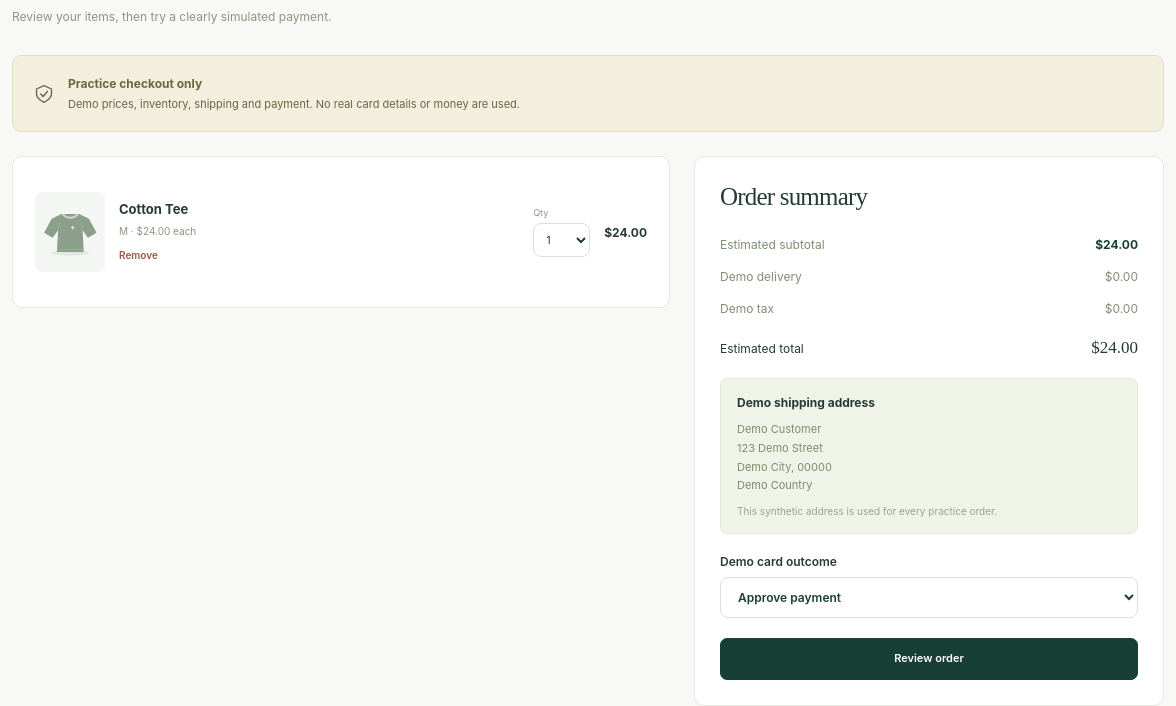
Test: simulated checkout › requires server review before explicit confirmation and shows a receipt
The image size is (1176, 706).
(page scrolled)
Check: the button "Confirm & simulate" is not shown
What coordinates should you click on to do the following:
click the button "Review order"
I would click on:
 (929, 659)
Its box is [720,638,1138,680].
(page scrolled)
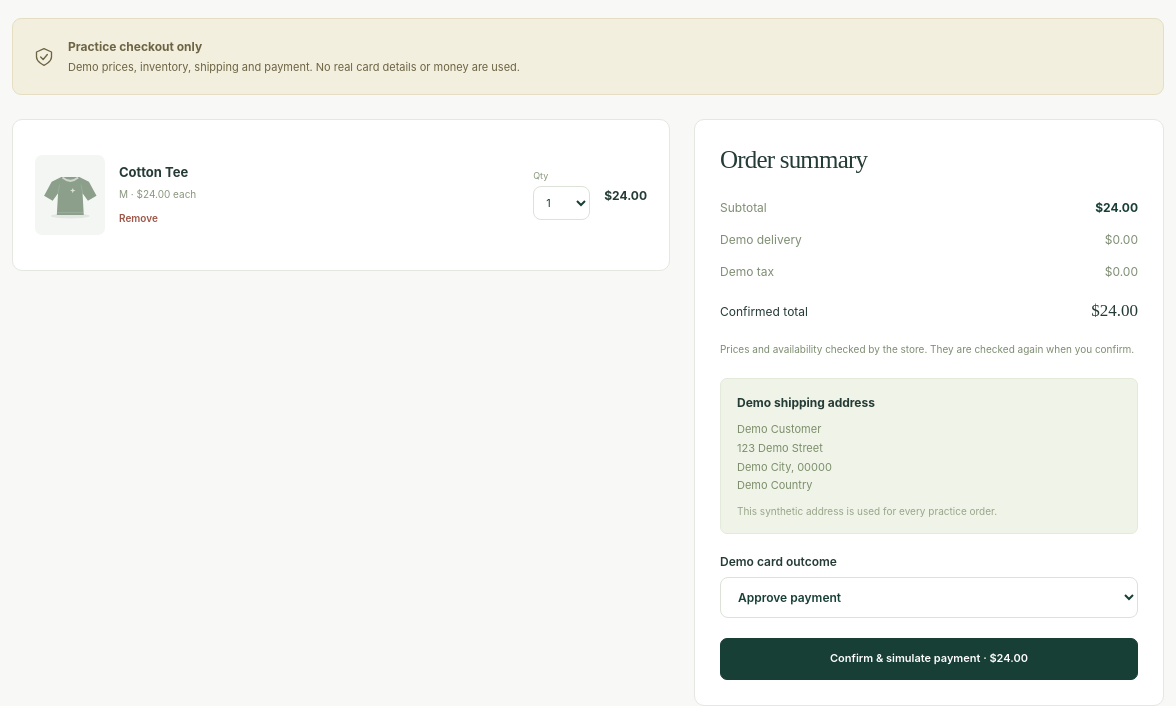
What coordinates should you click on to do the following:
click the button "Confirm & simulate payment · $24.00"
I would click on:
 (929, 659)
Its box is [720,638,1138,680].
(page scrolled)
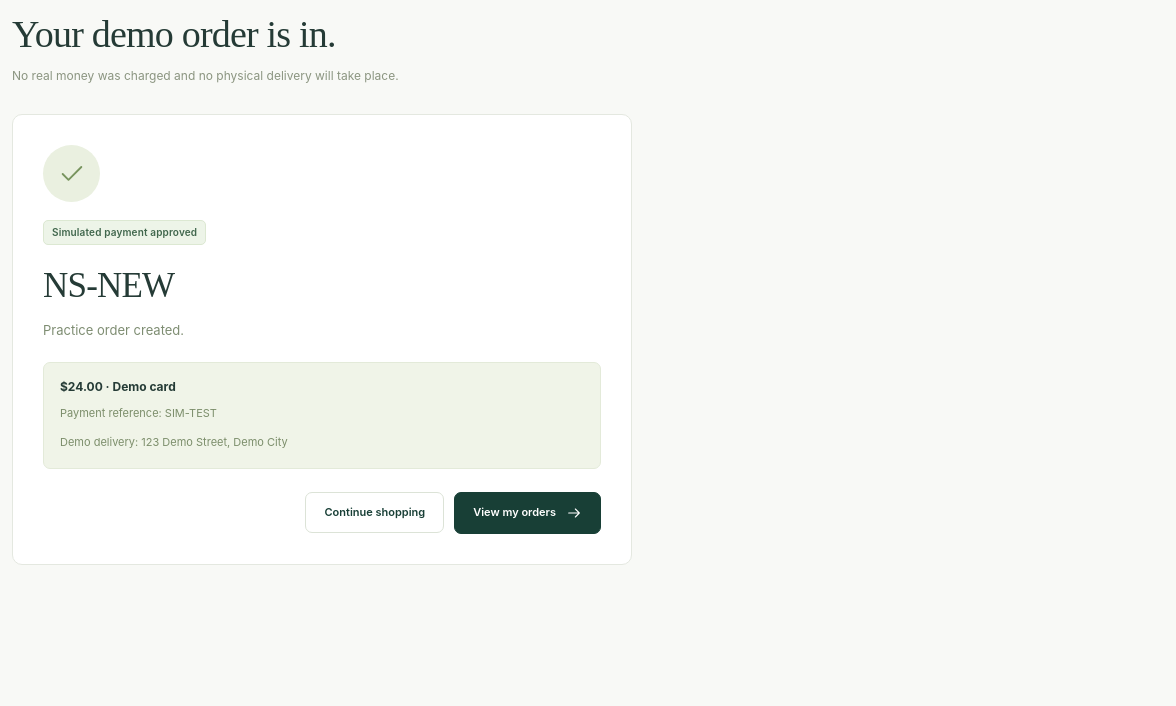
Check: the heading "Your demo order is in." is shown, box [12,12,336,54]
Check: the heading "NS-NEW" is shown, box [43,266,174,305]
